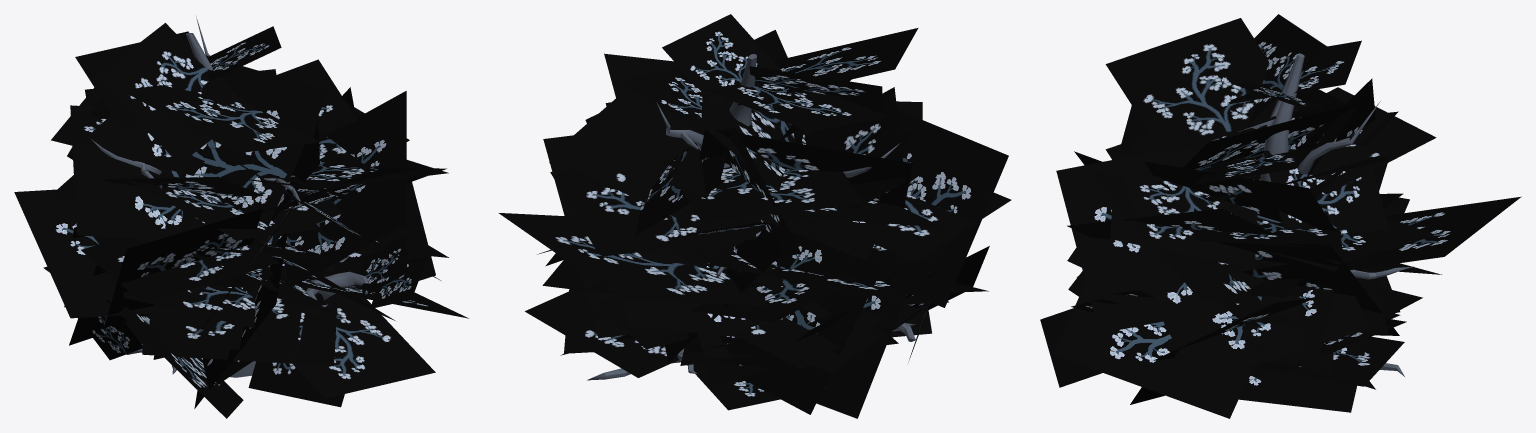
File: chestnut tree lower poly.fbx
3 views of the same model, side by side, from view 1: azimuth 30°, elevation 25°; view 2: azimuth 150°, elevation 25°; view 3: azimuth 270°, elevation 25° (orthographic). The views are drawn at different scales.
Visible parts, largest first — view 1: pPlane69, pPlane89, pPlane72, pPlane60, pPlane7, pPlane38, pPlane59, pPlane20, pPlane19, pPlane15, pPlane48, pPlane77 (+31 smaller); view 2: pPlane20, pPlane27, pPlane79, pPlane11, pPlane88, pPlane38, pPlane84, pPlane58, pPlane53, pPlane90, pPlane68, pPlane59 (+33 smaller); view 3: pPlane59, pPlane32, pPlane35, pPlane85, pPlane39, pPlane87, pPlane27, pPlane84, pPlane83, pPlane6, pPlane89, pPlane88 (+27 smaller).
Part boxes in pixels (x1=…): pPlane69: x1=277, y1=91, x2=406, y2=294; pPlane89: x1=181, y1=55, x2=328, y2=245; pPlane72: x1=280, y1=296, x2=435, y2=398; pPlane60: x1=95, y1=23, x2=242, y2=163; pPlane7: x1=14, y1=189, x2=181, y2=318; pPlane38: x1=71, y1=115, x2=207, y2=297; pPlane59: x1=121, y1=85, x2=320, y2=153; pPlane20: x1=104, y1=208, x2=262, y2=328; pPlane19: x1=81, y1=238, x2=279, y2=303; pPlane15: x1=145, y1=279, x2=306, y2=350; pPlane48: x1=70, y1=105, x2=267, y2=246; pPlane77: x1=142, y1=274, x2=337, y2=365; pPlane20: x1=897, y1=109, x2=1008, y2=307; pPlane27: x1=499, y1=213, x2=766, y2=305; pPlane79: x1=684, y1=237, x2=882, y2=414; pPlane11: x1=550, y1=169, x2=757, y2=256; pPlane88: x1=669, y1=167, x2=863, y2=222; pPlane38: x1=699, y1=129, x2=912, y2=208; pPlane84: x1=605, y1=96, x2=698, y2=202; pPlane58: x1=662, y1=14, x2=781, y2=103; pPlane53: x1=816, y1=248, x2=917, y2=418; pPlane90: x1=705, y1=82, x2=888, y2=131; pPlane68: x1=790, y1=87, x2=905, y2=241; pPlane59: x1=737, y1=28, x2=918, y2=105; pPlane59: x1=1105, y1=18, x2=1299, y2=156; pPlane32: x1=1056, y1=139, x2=1265, y2=333; pPlane35: x1=1053, y1=282, x2=1251, y2=418; pPlane85: x1=1160, y1=292, x2=1370, y2=384; pPlane39: x1=1110, y1=163, x2=1257, y2=269; pPlane87: x1=1263, y1=145, x2=1388, y2=233; pPlane27: x1=1344, y1=196, x2=1521, y2=270; pPlane84: x1=1144, y1=161, x2=1362, y2=271; pPlane83: x1=1215, y1=241, x2=1399, y2=335; pPlane6: x1=1090, y1=171, x2=1265, y2=307; pPlane89: x1=1183, y1=99, x2=1371, y2=170; pPlane88: x1=1254, y1=87, x2=1436, y2=194.
Size of the model in its own units: 12.95 by 10.91 by 14.73.
